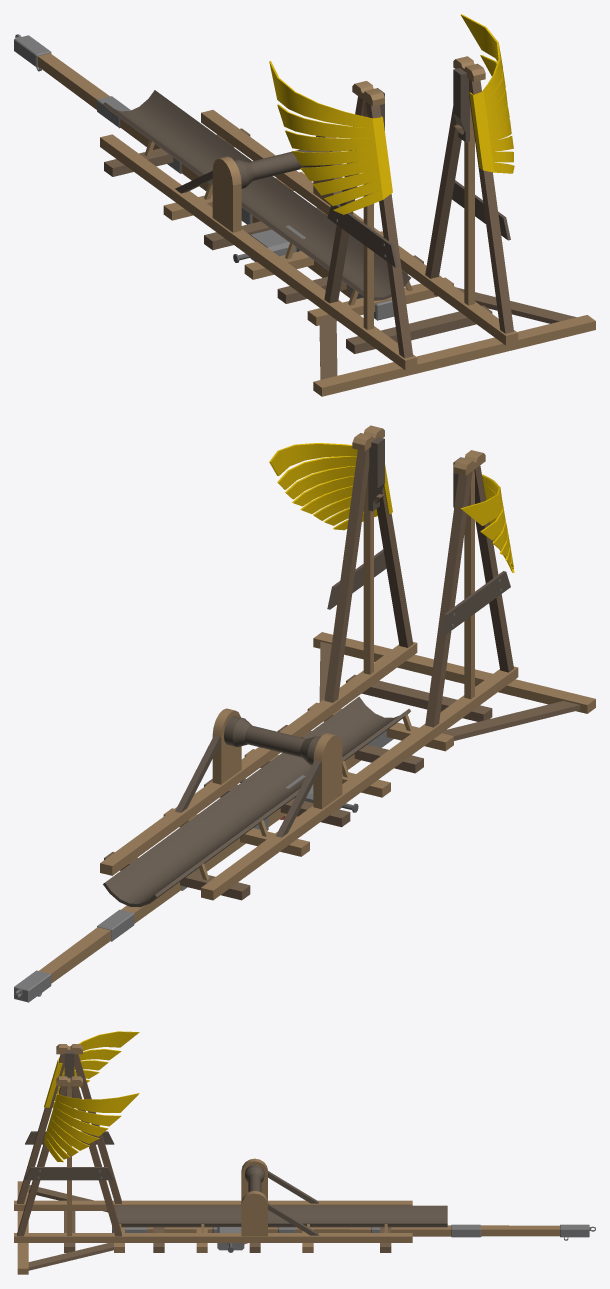
The model's file is Trebuchet_Leather.fbx.
3 renders of one model, top to bottom at view 1: azimuth 30°, elevation 25°; view 2: azimuth 150°, elevation 25°; view 3: azimuth 270°, elevation 25°, orthographic. The views are drawn at different scales.
Parts seen in each view (by area): view 1: Trebuchet_Base, Trebuchet_Arm; view 2: Trebuchet_Base, Trebuchet_Arm; view 3: Trebuchet_Base, Trebuchet_Arm.
Boxes of the visible parts, box(x1,y1,x2,y2) form: Trebuchet_Base: box(100, 14, 595, 396); Trebuchet_Arm: box(14, 34, 394, 320); Trebuchet_Base: box(100, 425, 595, 907); Trebuchet_Arm: box(14, 730, 393, 1002); Trebuchet_Base: box(14, 1031, 447, 1274); Trebuchet_Arm: box(112, 1224, 595, 1252).
Bounding box in the file's own units: 169 × 163 × 475.
